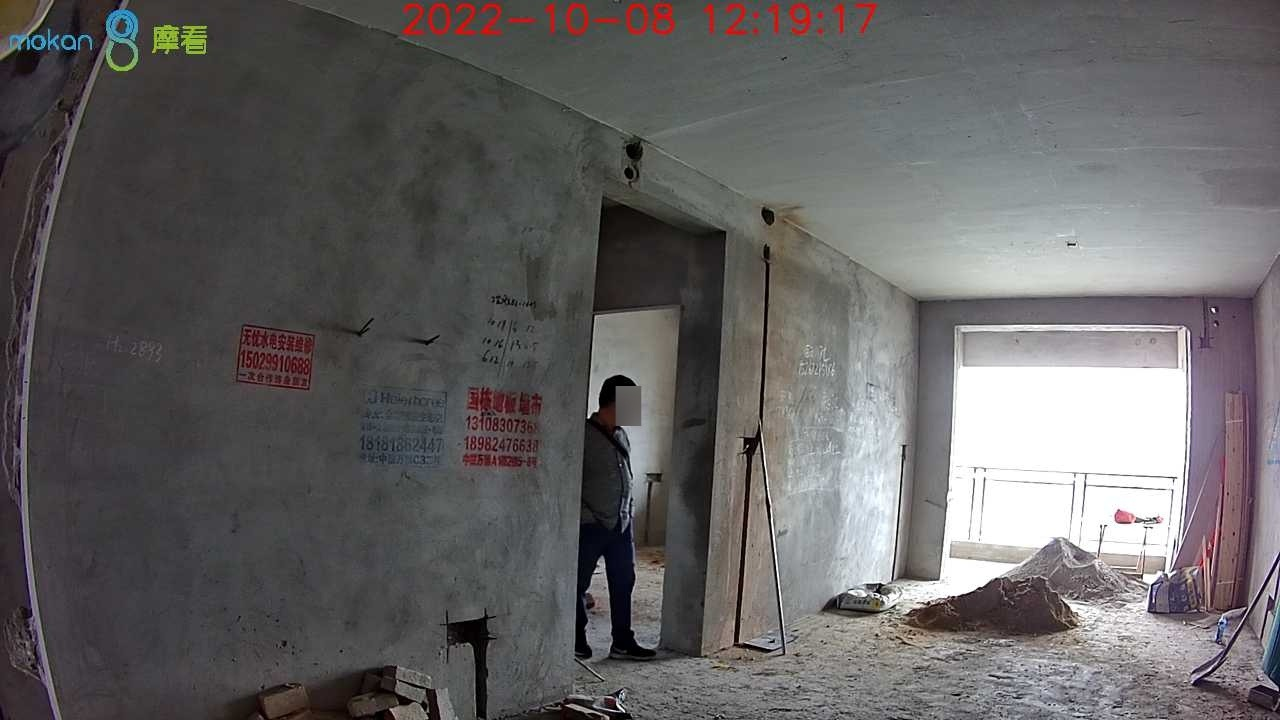people: (576, 376, 658, 659)
window: (953, 365, 1190, 551)
